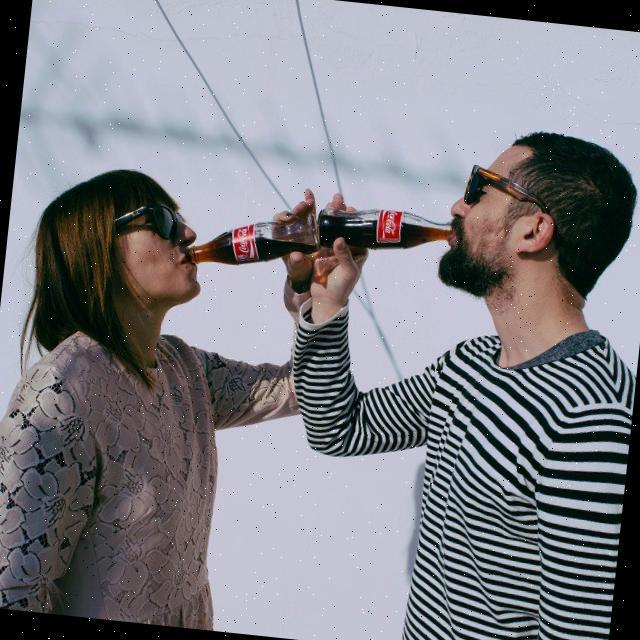coca-cola: (185, 199, 318, 275), (316, 199, 456, 257)
